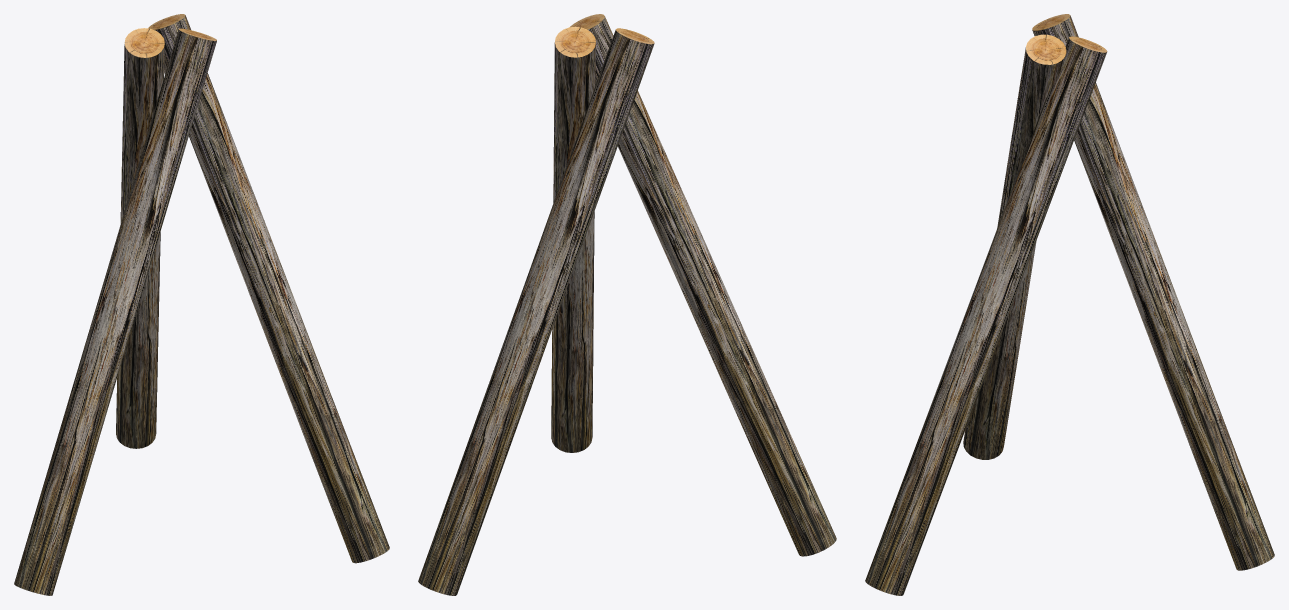
Rendered from tripod.fbx.
3 renders of one model, left to right at view 1: azimuth 30°, elevation 25°; view 2: azimuth 150°, elevation 25°; view 3: azimuth 270°, elevation 25°, orthographic. The views are drawn at different scales.
Visible parts, largest first — view 1: pasted__pCylinder7, pCylinder7, pCylinder6; view 2: pCylinder6, pasted__pCylinder7, pCylinder7; view 3: pCylinder7, pCylinder6, pasted__pCylinder7.
Part boxes in pixels (left/top/right/bottom): pasted__pCylinder7: left=14, top=28, right=216, bottom=595; pCylinder7: left=148, top=14, right=389, bottom=563; pCylinder6: left=116, top=28, right=164, bottom=448; pCylinder6: left=418, top=28, right=654, bottom=595; pasted__pCylinder7: left=570, top=14, right=836, bottom=556; pCylinder7: left=551, top=26, right=595, bottom=452; pCylinder7: left=865, top=36, right=1107, bottom=595; pCylinder6: left=1032, top=14, right=1274, bottom=570; pasted__pCylinder7: left=963, top=34, right=1066, bottom=459.
Size of the model in its own units: 2.56 by 3.81 by 2.78.
